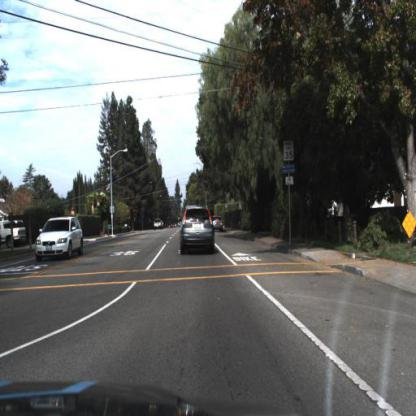car: (31, 209, 89, 268), (174, 196, 220, 264), (1, 217, 27, 248), (212, 213, 228, 234), (149, 213, 164, 231), (153, 217, 165, 232)
